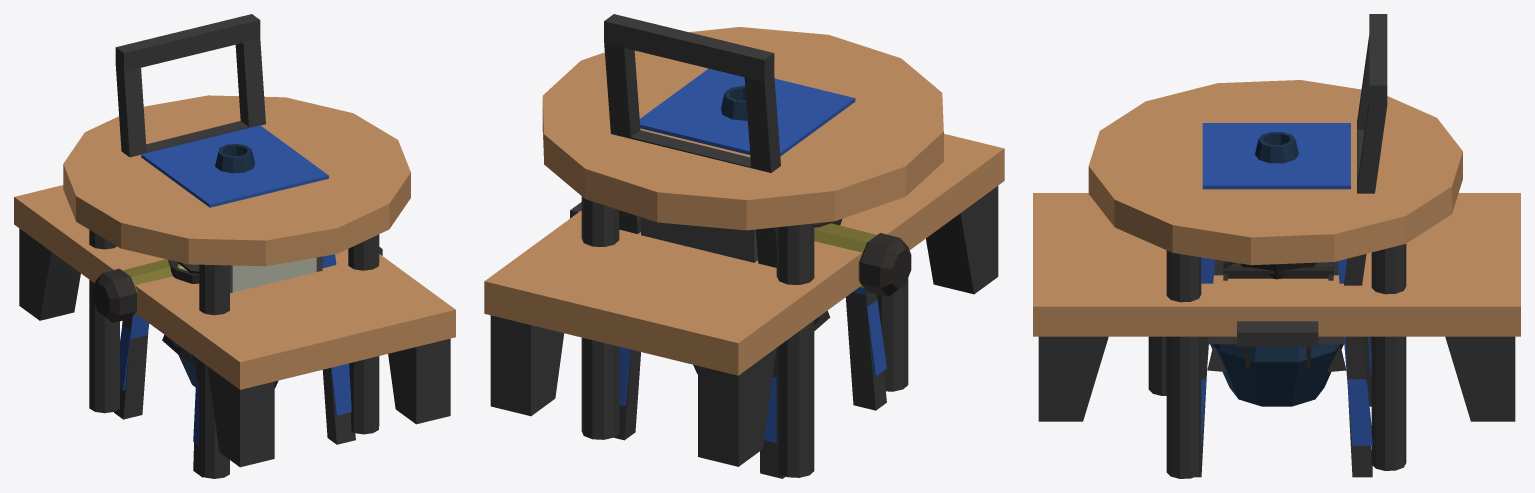
Rendered from safe.fbx.
3 views of the same model, side by side, from view 1: azimuth 30°, elevation 25°; view 2: azimuth 150°, elevation 25°; view 3: azimuth 270°, elevation 25° (orthographic). The views are drawn at different scales.
Parts seen in each view (by area): view 1: kitchen_table, table, kitchen_chair, chair, flashlight, pracka, decoration_2, piano; view 2: kitchen_table, table, kitchen_chair, chair, flashlight, safe, decoration_2; view 3: kitchen_table, table, chair, kitchen_chair, decoration_2, ovladac, piano, decoration_3, safe.
Boxes of the visible parts, left/top/right/bottom form: kitchen_table: left=63, top=95, right=410, bottom=478; table: left=14, top=185, right=455, bottom=467; kitchen_chair: left=114, top=14, right=355, bottom=477; chair: left=120, top=125, right=351, bottom=445; flashlight: left=93, top=259, right=187, bottom=322; pracka: left=232, top=257, right=316, bottom=292; decoration_2: left=171, top=143, right=278, bottom=388; piano: left=168, top=259, right=199, bottom=283; kitchen_table: left=542, top=27, right=943, bottom=477; table: left=484, top=134, right=1004, bottom=466; kitchen_chair: left=604, top=14, right=886, bottom=478; chair: left=619, top=68, right=886, bottom=442; flashlight: left=814, top=223, right=911, bottom=296; safe: left=641, top=217, right=757, bottom=262; decoration_2: left=693, top=86, right=818, bottom=373; kitchen_table: left=1088, top=80, right=1462, bottom=478; table: left=1033, top=193, right=1520, bottom=421; chair: left=1201, top=123, right=1372, bottom=445; kitchen_chair: left=1195, top=14, right=1387, bottom=477; decoration_2: left=1210, top=132, right=1343, bottom=406; ovladac: left=1237, top=321, right=1318, bottom=346; piano: left=1223, top=261, right=1333, bottom=368; decoration_3: left=1207, top=262, right=1346, bottom=371; safe: left=1209, top=259, right=1344, bottom=344.
Bounding box in the file's own units: 1586 × 1817 × 2076.
